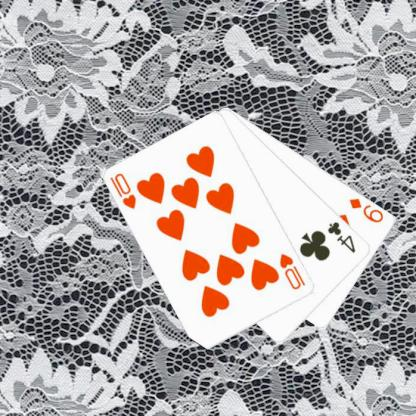10H: (108, 170, 138, 211), (277, 251, 307, 291)
4C: (324, 219, 358, 254)
9D: (347, 195, 385, 224)
